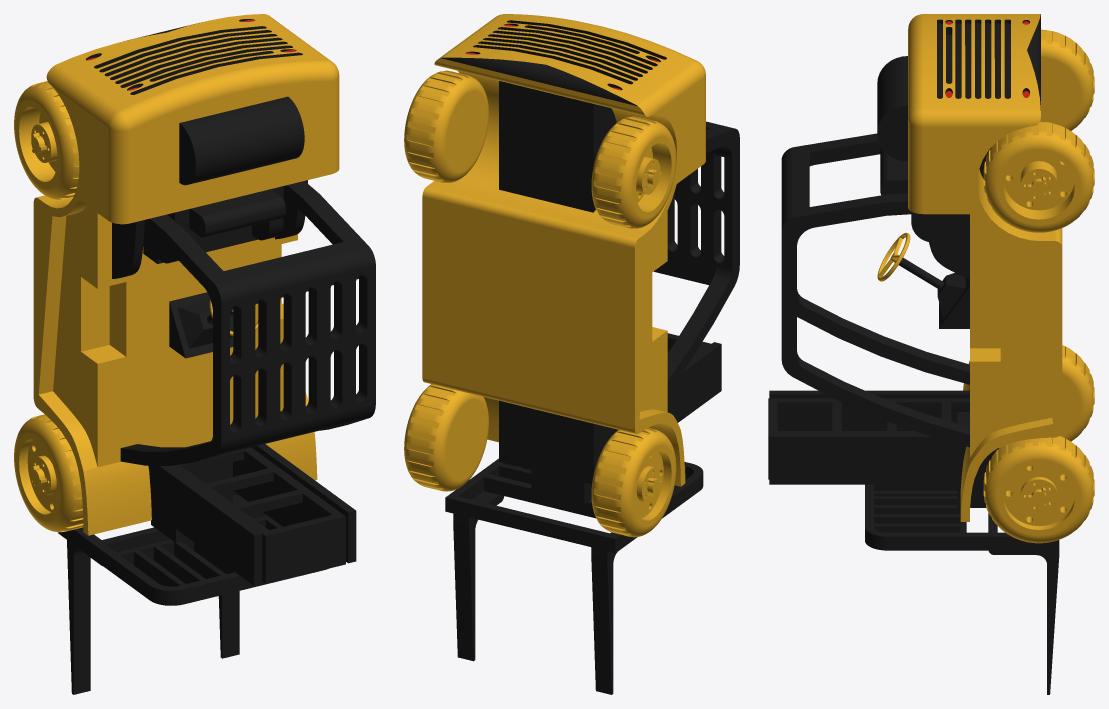
The model's file is forklift v19.fbx.
3 renders of one model, left to right at view 1: azimuth 30°, elevation 25°; view 2: azimuth 150°, elevation 25°; view 3: azimuth 270°, elevation 25°, orthographic. The views are drawn at different scales.
Parts seen in each view (by area): view 1: Body2, Body3, Body4, Body10, Body8, Body5, Body6; view 2: Body2, Body4, Body8, Body7, Body10, Body9, Body6, Body5; view 3: Body2, Body7, Body9, Body4, Body3, Body8, Body10, Body6, Body1.
Boxes of the visible parts, box(x1,y1,x2,y2) form: Body2: box(33, 14, 375, 586); Body3: box(170, 447, 345, 583); Body4: box(58, 441, 328, 605); Body10: box(14, 414, 83, 532); Body8: box(14, 81, 79, 199); Body5: box(67, 534, 102, 694); Body6: box(218, 494, 247, 658); Body2: box(422, 14, 739, 486); Body4: box(445, 458, 703, 552); Body8: box(591, 116, 676, 228); Body7: box(404, 70, 488, 182); Body10: box(591, 428, 676, 537); Body9: box(404, 384, 488, 491); Body6: box(453, 491, 504, 661); Body5: box(591, 532, 637, 694); Body2: box(769, 14, 1062, 521); Body7: box(983, 121, 1094, 232); Body9: box(983, 436, 1094, 543); Body4: box(865, 412, 1059, 550); Body3: box(768, 398, 969, 479); Body8: box(1040, 29, 1094, 130); Body10: box(1060, 345, 1094, 441); Body6: box(988, 550, 1059, 694); Body1: box(877, 232, 910, 281).
Size of the model in its own units: 87.56 by 217 by 106.
